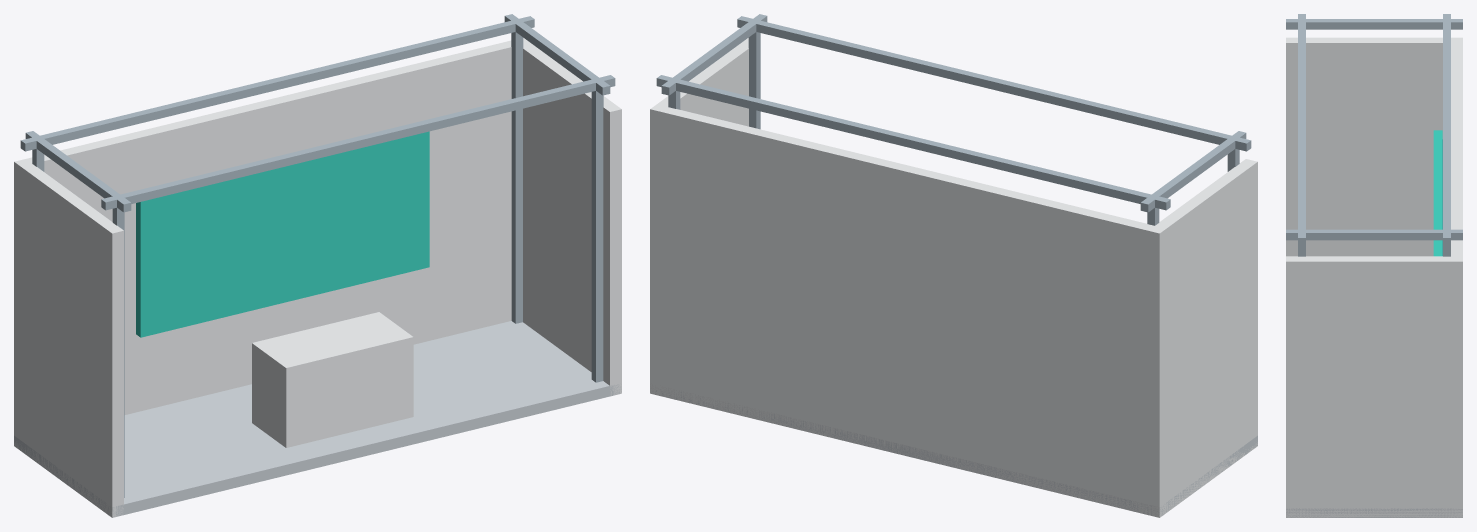
3 renders of one model, left to right at view 1: azimuth 30°, elevation 25°; view 2: azimuth 150°, elevation 25°; view 3: azimuth 270°, elevation 25°, orthographic. The views are drawn at different scales.
Visible parts, largest first — view 1: Exhibition Booth Concept; view 2: Exhibition Booth Concept; view 3: Exhibition Booth Concept.
Boxes of the visible parts, x1,y1,x2,y2 form: Exhibition Booth Concept: (14, 14, 621, 517); Exhibition Booth Concept: (650, 14, 1257, 517); Exhibition Booth Concept: (1286, 14, 1462, 517).
Bounding box in the file's own units: 6 × 3.49 × 2.
